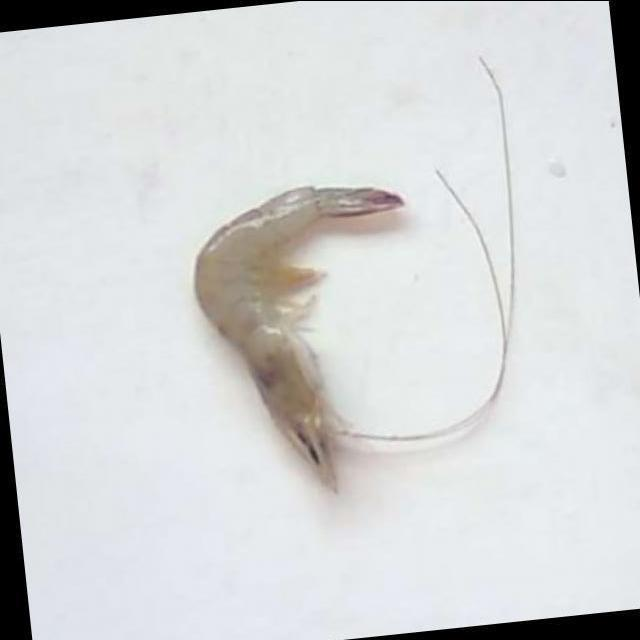shrimp: (194, 187, 402, 493)
